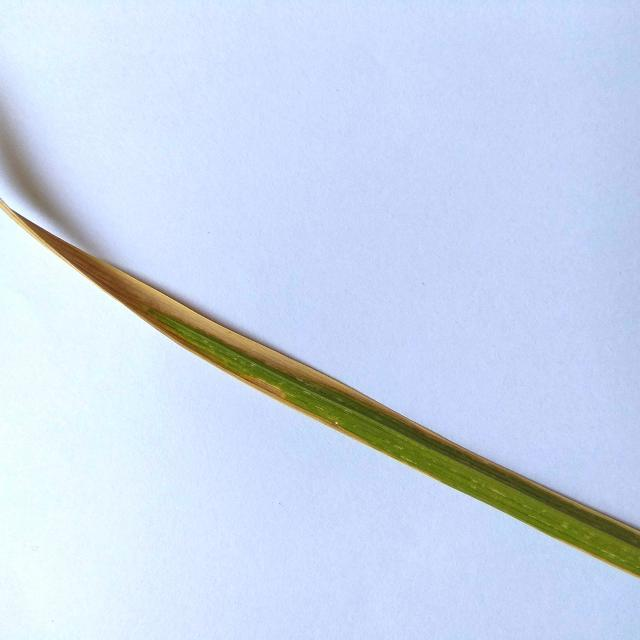Blast: (330, 420, 344, 426)
